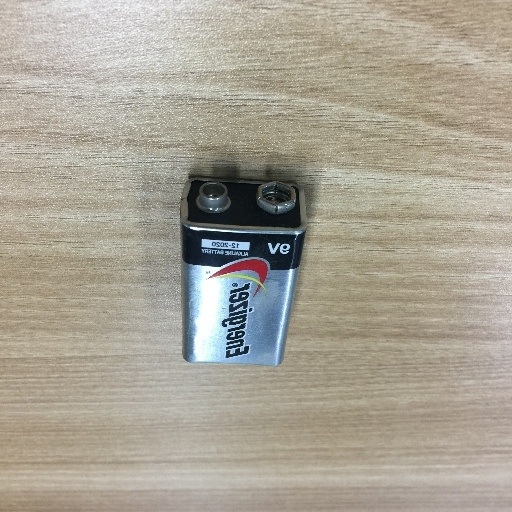Battery_3: (177, 168, 308, 383)
